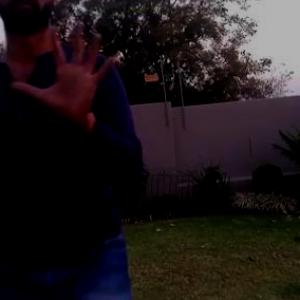follow_hand: (6, 18, 120, 125)
